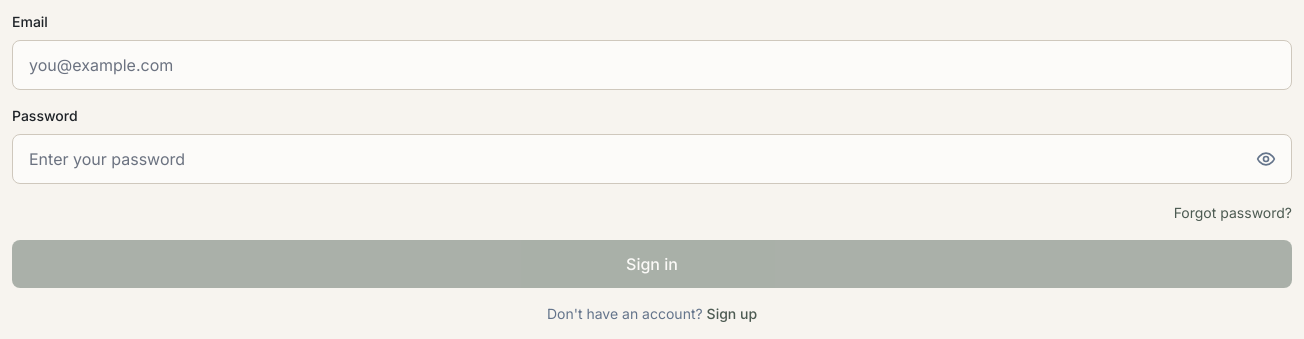
Test case: EmailPasswordForm › forgot password › should show forgot password form when link is clicked
This screenshot has width=1304, height=339.
Click the button "Forgot password?" at (1233, 213), box [1174,203,1292,223]
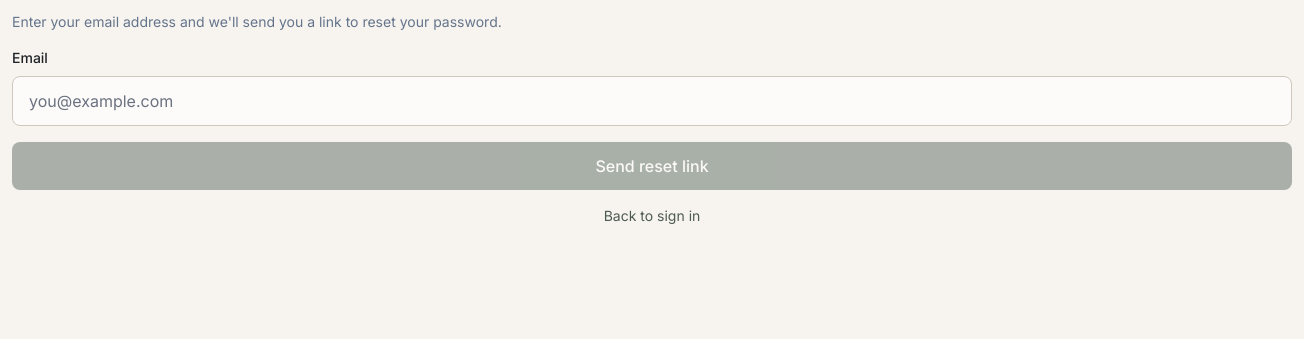
Expected: the text "send you a link to reset your password" is shown, [12,13,502,30]
Expected: the button "Send reset link" is shown, [12,142,1292,190]
